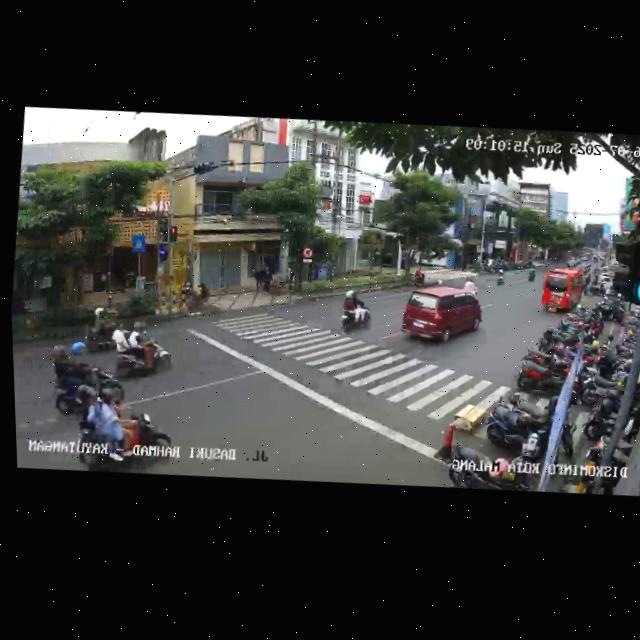car: (396, 282, 487, 352), (538, 265, 586, 318)
motorcycle: (73, 385, 172, 475), (40, 335, 132, 427), (112, 316, 177, 386), (79, 303, 129, 357), (336, 287, 374, 336), (525, 263, 537, 283)
